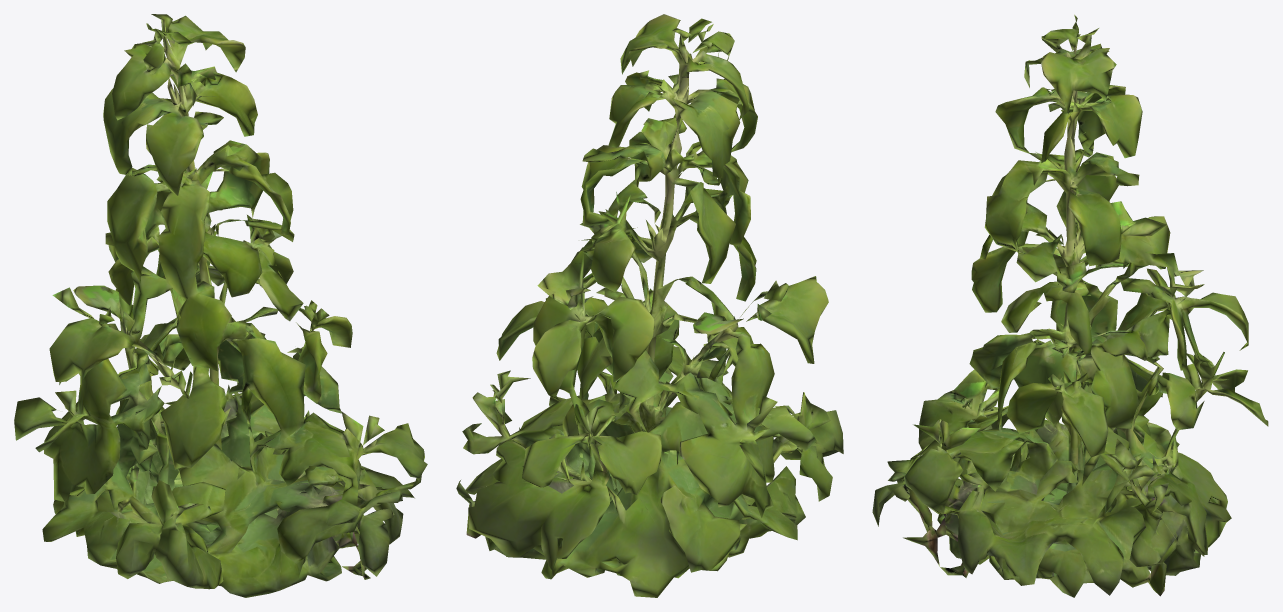
Rendered from a_cloesup_shot_of_tulsi_plant.glb.
3 views of the same model, side by side, from view 1: azimuth 30°, elevation 25°; view 2: azimuth 150°, elevation 25°; view 3: azimuth 270°, elevation 25° (orthographic). The views are drawn at different scales.
Visible parts, largest first — view 1: Object_4; view 2: Object_4; view 3: Object_4.
Part boxes in pixels (x1,y1,x2,y2): Object_4: (14,14,427,597); Object_4: (456,14,843,597); Object_4: (872,14,1268,597).
Bounding box in the file's own units: 1.3 × 1.96 × 1.41.
1 material, 1 textured.
